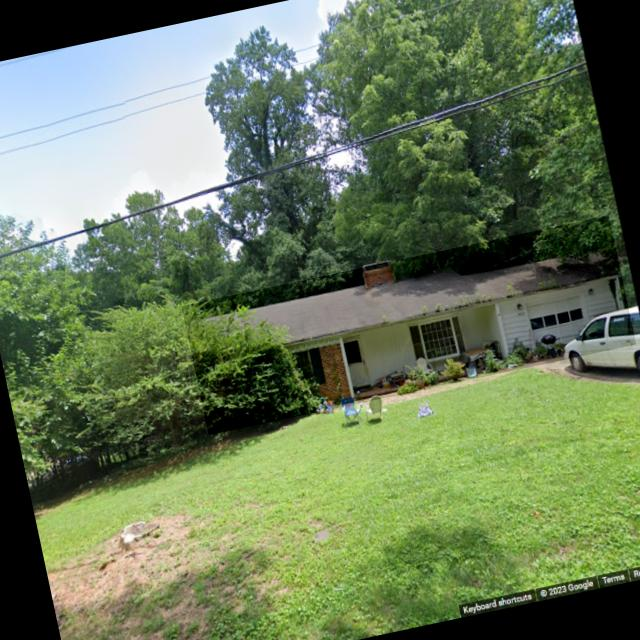House: (181, 215, 636, 434)
